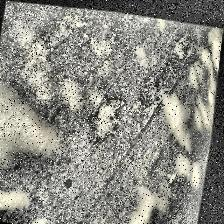pothole: (91, 90, 129, 140)
